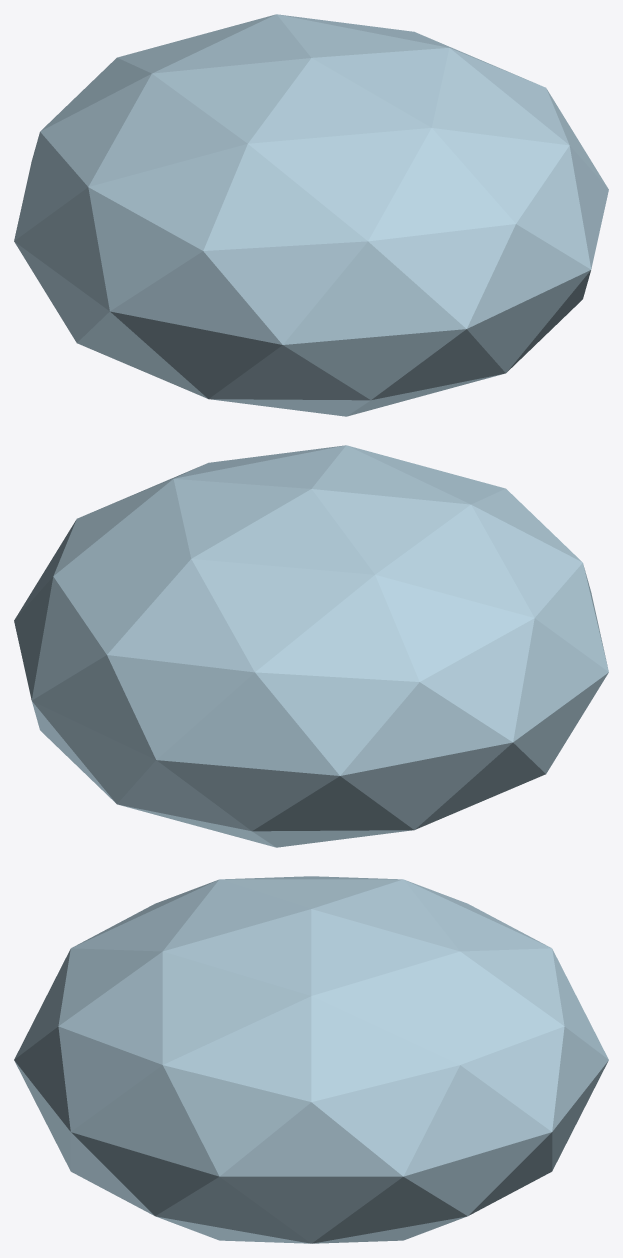
File: BO_SM_EnemyPart_XuanGuiShell_v001.glb
3 renders of one model, top to bottom at view 1: azimuth 30°, elevation 25°; view 2: azimuth 150°, elevation 25°; view 3: azimuth 270°, elevation 25°, orthographic. The views are drawn at different scales.
Parts seen in each view (by area): view 1: body_000; view 2: body_000; view 3: body_000.
Boxes of the visible parts, x1,y1,x2,y2 form: body_000: (14, 14, 608, 416); body_000: (14, 445, 608, 847); body_000: (14, 876, 608, 1243).
Bounding box in the file's own units: 2.32 × 1.4 × 2.5.
